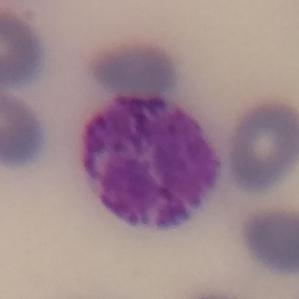Basophil: (74, 91, 225, 235)
RBC: (222, 97, 299, 195), (90, 38, 181, 99), (238, 204, 299, 278), (0, 87, 50, 171), (0, 6, 49, 91), (170, 288, 258, 299)
